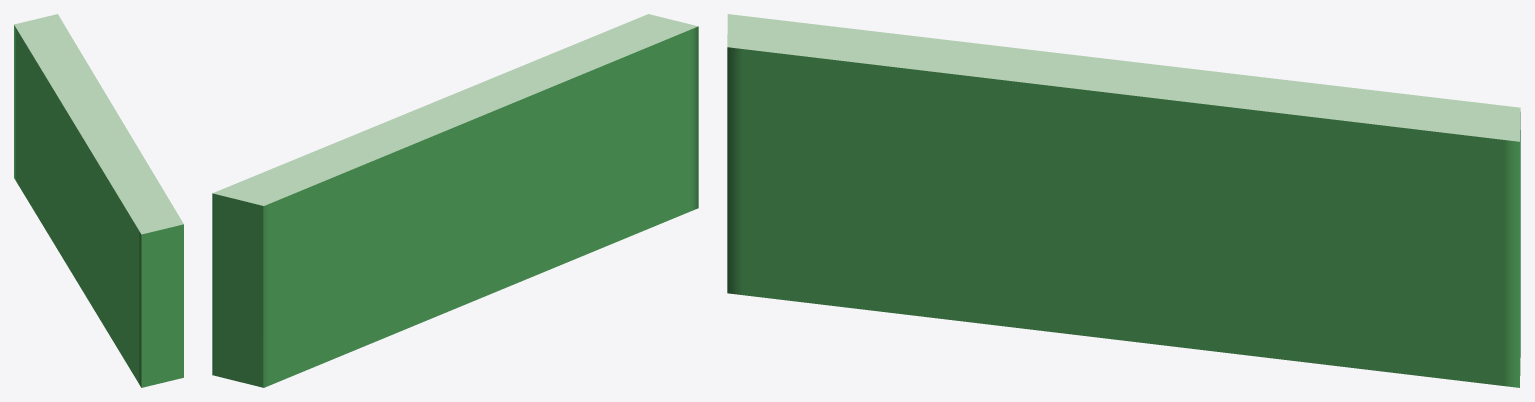
The model's file is codeslash.glb.
3 views of the same model, side by side, from view 1: azimuth 30°, elevation 25°; view 2: azimuth 150°, elevation 25°; view 3: azimuth 270°, elevation 25° (orthographic). The views are drawn at different scales.
Visible parts, largest first — view 1: BezierCurve; view 2: BezierCurve; view 3: BezierCurve.
Part boxes in pixels (x1,y1,x2,y2): BezierCurve: (14, 14, 183, 387); BezierCurve: (212, 14, 698, 387); BezierCurve: (727, 14, 1520, 387).
Size of the model in its own units: 0.2673 by 0.24 by 0.701.
